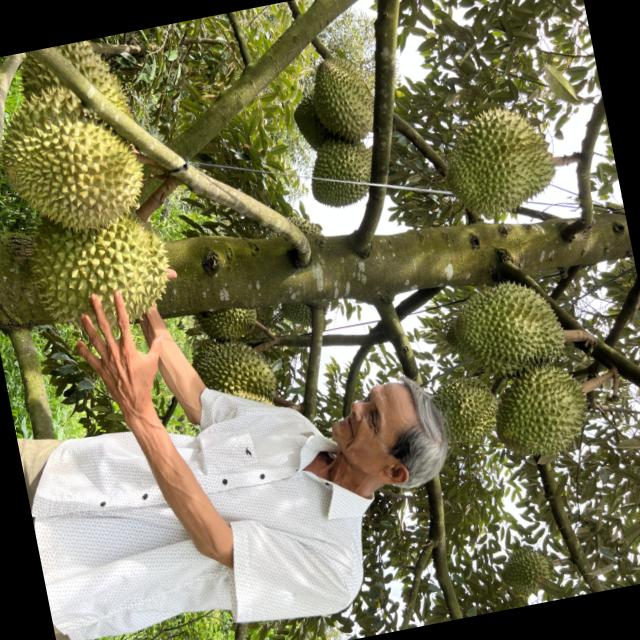Sau Rieng: (0, 63, 144, 243), (23, 210, 180, 340), (447, 268, 572, 387), (438, 101, 564, 219), (21, 32, 138, 140), (489, 358, 597, 466), (190, 328, 284, 418), (307, 51, 381, 147), (437, 370, 508, 452), (188, 288, 268, 352), (307, 133, 379, 204), (497, 536, 560, 600), (288, 86, 322, 138), (281, 296, 315, 331)
